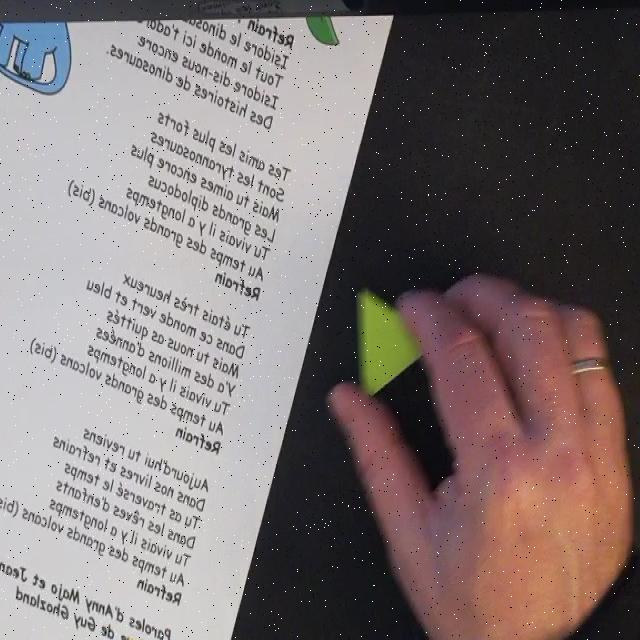triangle: (354, 288, 438, 407)
